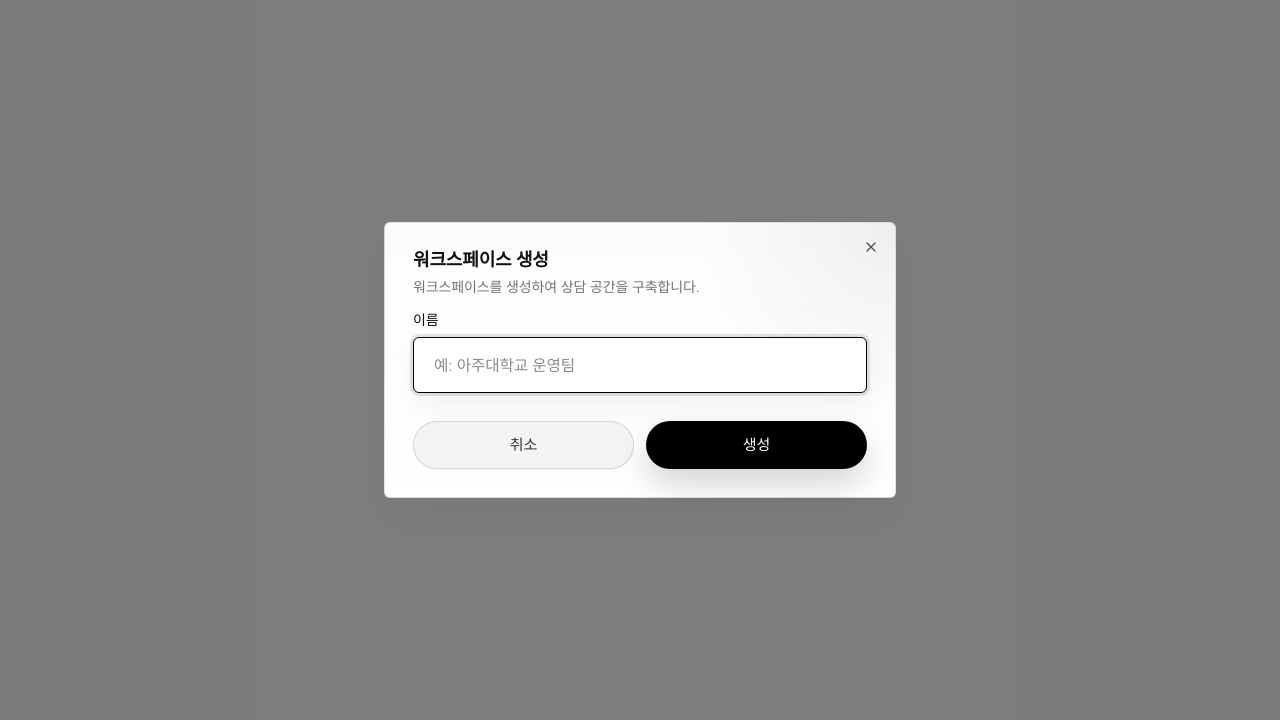
CreateWorkspaceDialog › 생성 요청 중에는 제출 버튼을 비활성화한다
In the field labelled "이름": (640, 365) [413, 337, 867, 393], type "Support Team"
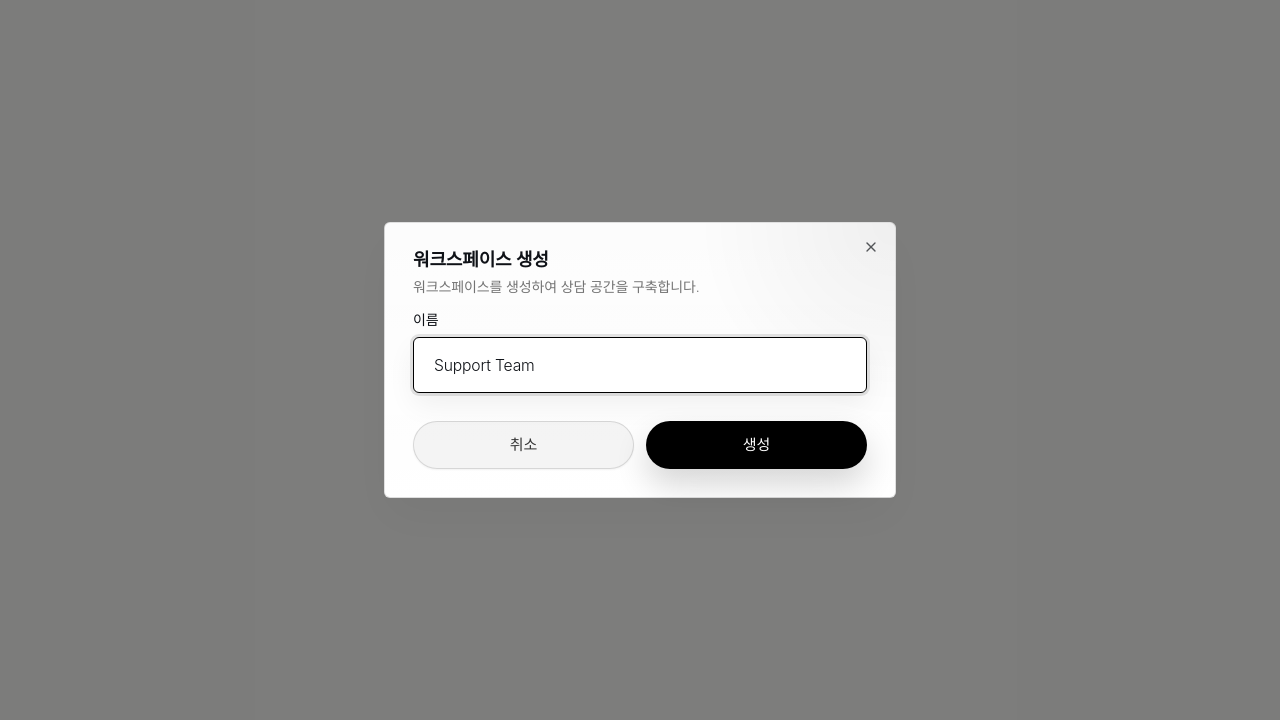
Click the button "생성": (756, 445) [646, 421, 867, 469]
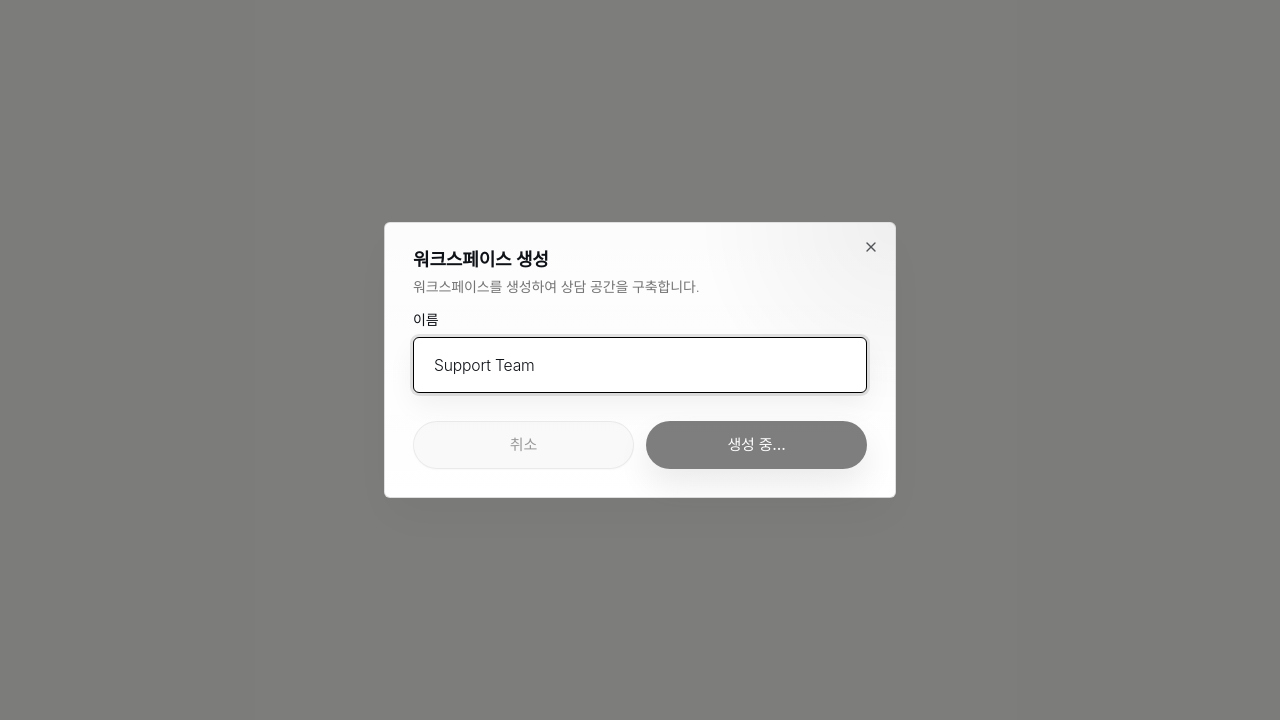
Expected: the button "생성 중..." is disabled, [646, 421, 867, 469]
